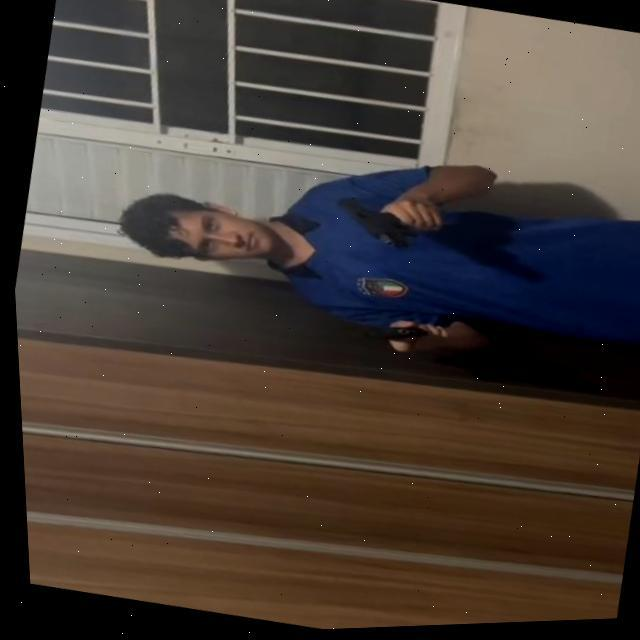gun: (327, 198, 413, 254), (350, 317, 420, 353)
